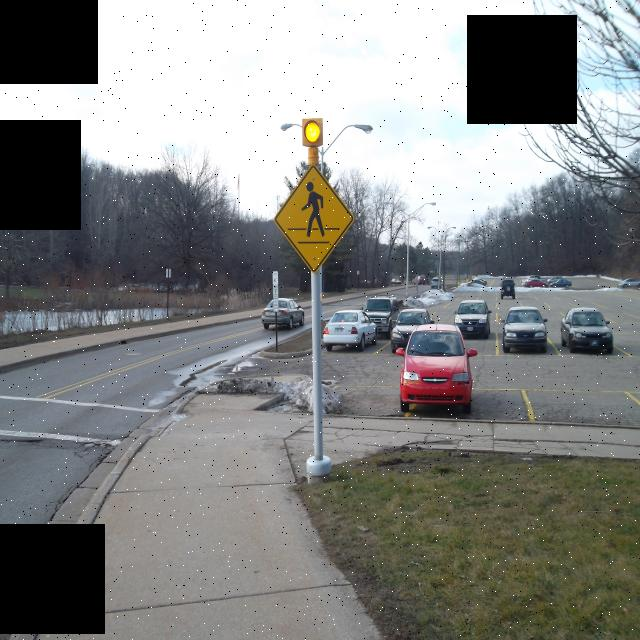warning: (272, 162, 353, 273)
